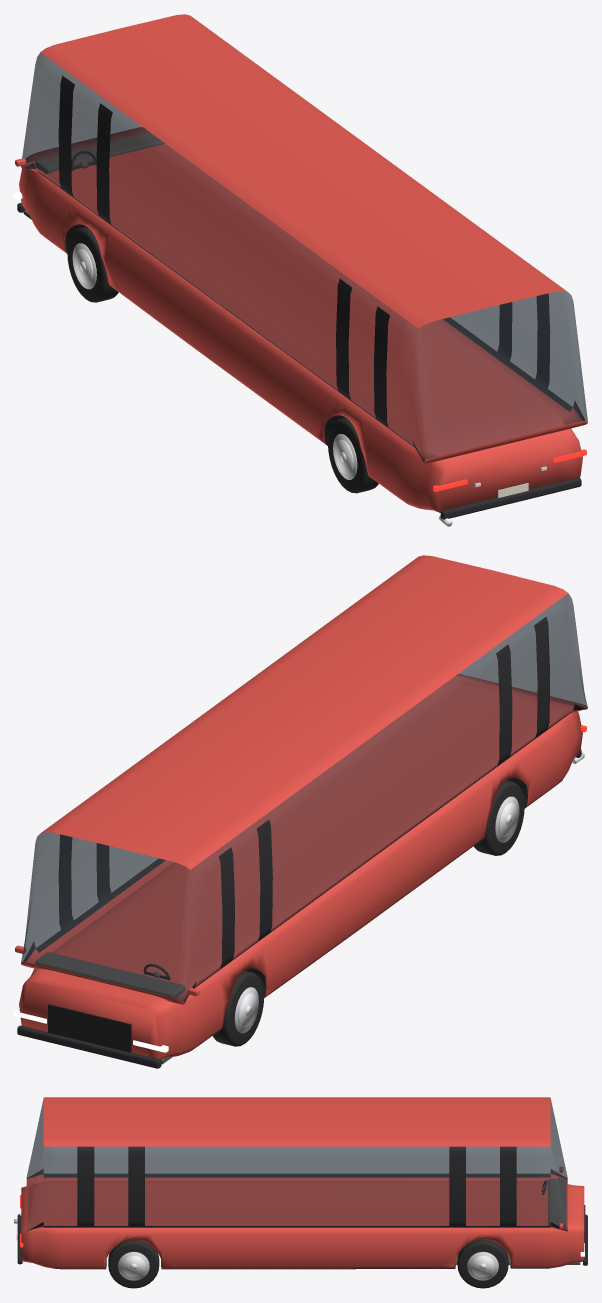
The model's file is t_bus.glb.
The picture shows the model from 3 angles, top to bottom: view 1: azimuth 30°, elevation 25°; view 2: azimuth 150°, elevation 25°; view 3: azimuth 270°, elevation 25°; orthographic projection. The views are drawn at different scales.
Visible parts, largest first — view 1: Body.013, Glass.013, Wheel_FL.013, Wheel_RL.013, Interior.013; view 2: Body.013, Glass.013, Wheel_FL.013, Wheel_RL.013, Interior.013; view 3: Body.013, Glass.013, Wheel_FR.013, Wheel_RR.013, Interior.013.
Part boxes in pixels (<box>): Body.013: <box>15,14,587,526</box>; Glass.013: <box>21,52,587,461</box>; Wheel_FL.013: <box>67,226,118,302</box>; Wheel_RL.013: <box>328,417,378,493</box>; Interior.013: <box>23,132,164,219</box>; Body.013: <box>15,555,587,1068</box>; Glass.013: <box>21,593,587,1002</box>; Wheel_FL.013: <box>213,970,264,1046</box>; Wheel_RL.013: <box>473,780,524,855</box>; Interior.013: <box>35,952,185,1064</box>; Body.013: <box>14,1097,587,1269</box>; Glass.013: <box>26,1098,567,1231</box>; Wheel_FR.013: <box>457,1239,508,1288</box>; Wheel_RR.013: <box>108,1240,159,1288</box>; Interior.013: <box>454,1178,580,1264</box>.
Size of the model in its own units: 2.76 by 3.1 by 11.21.
